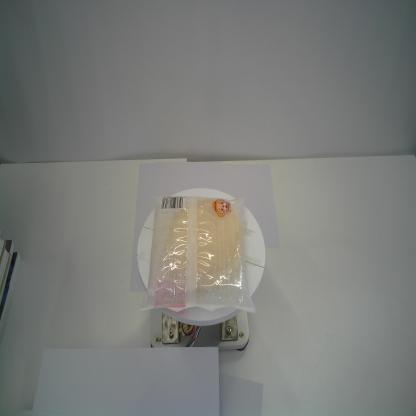Dessert: (139, 192, 258, 320)
